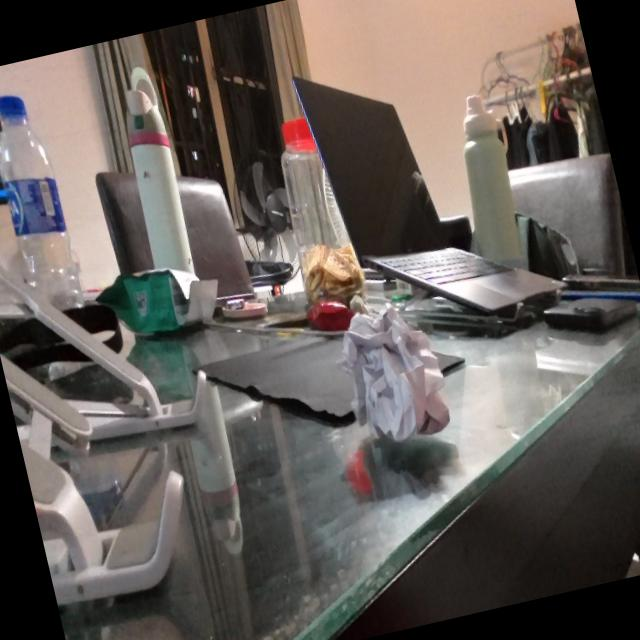crumpled_paper: (329, 291, 457, 454)
